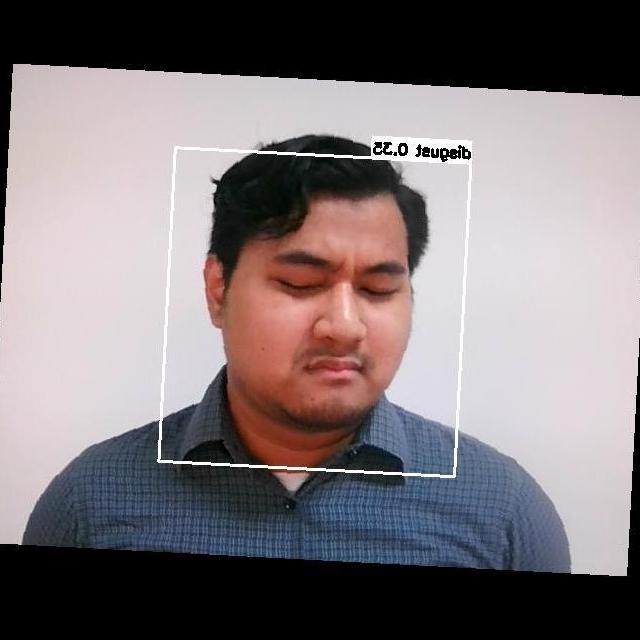Disgust: (249, 228, 422, 402)
